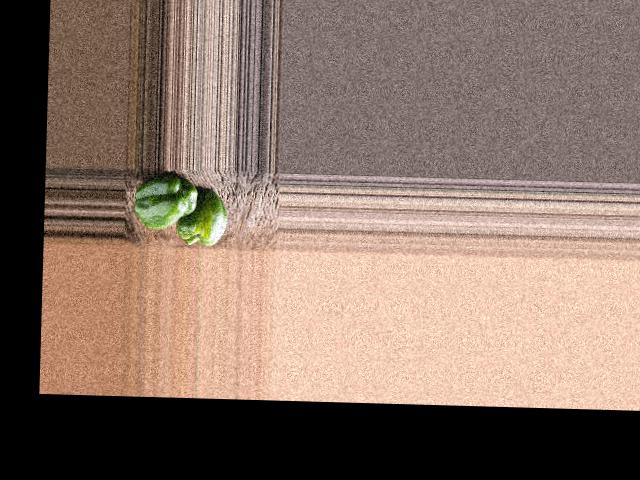bell_pepper: (134, 176, 200, 232)
